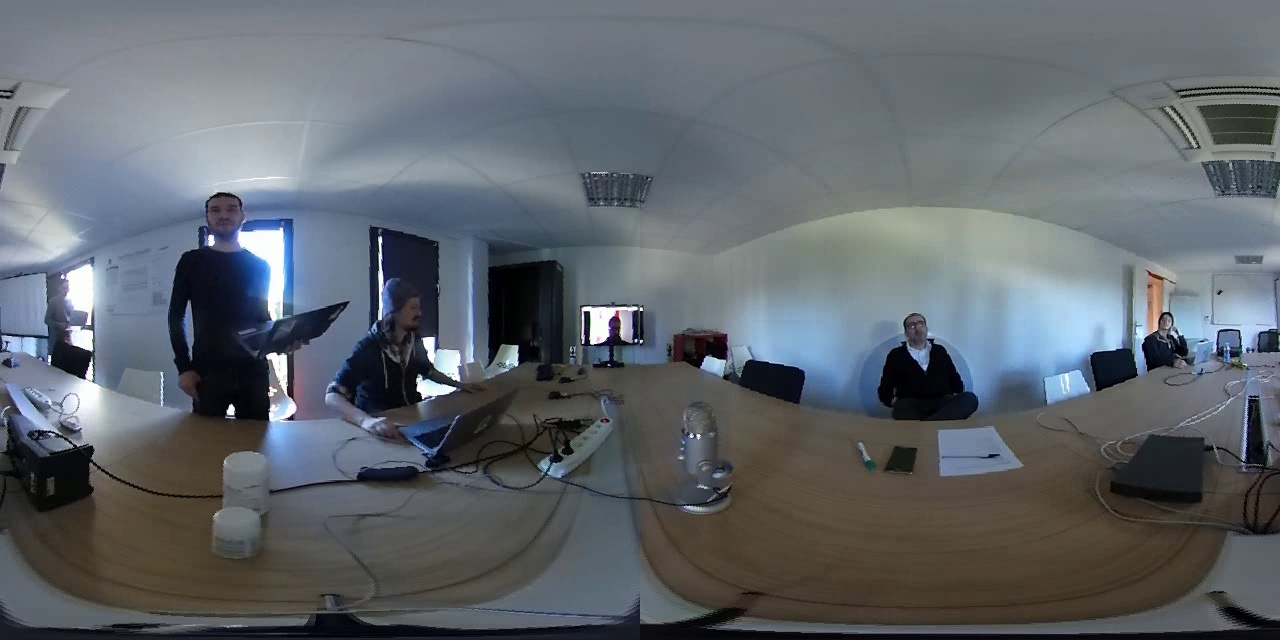person: (171, 179, 282, 385), (347, 265, 449, 413), (877, 306, 970, 415), (38, 264, 91, 335), (1140, 292, 1186, 364), (580, 307, 647, 341)
